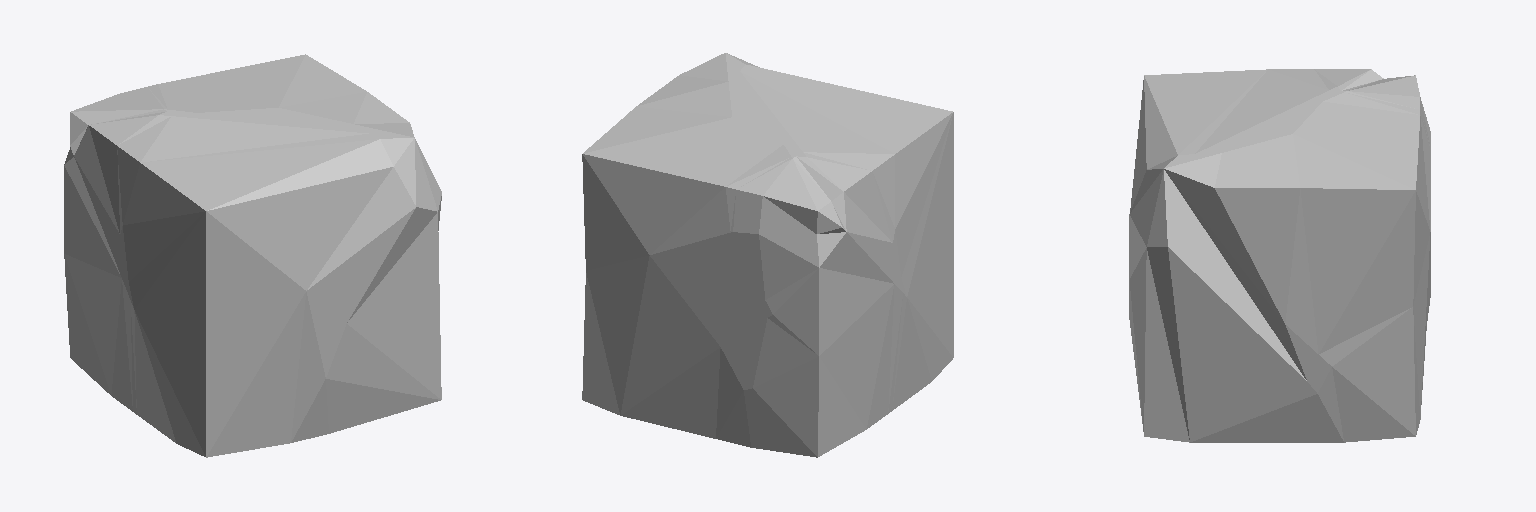
File: Shatterd03.obj
3 views of the same model, side by side, from view 1: azimuth 30°, elevation 25°; view 2: azimuth 150°, elevation 25°; view 3: azimuth 270°, elevation 25° (orthographic).
Visible parts, largest first — view 1: Shatterd03; view 2: Shatterd03; view 3: Shatterd03.
Boxes of the visible parts, x1,y1,x2,y2 form: Shatterd03: [64, 54, 441, 457]; Shatterd03: [582, 53, 953, 457]; Shatterd03: [1129, 69, 1430, 442].
Size of the model in its own units: 2.21 by 2.21 by 2.21.